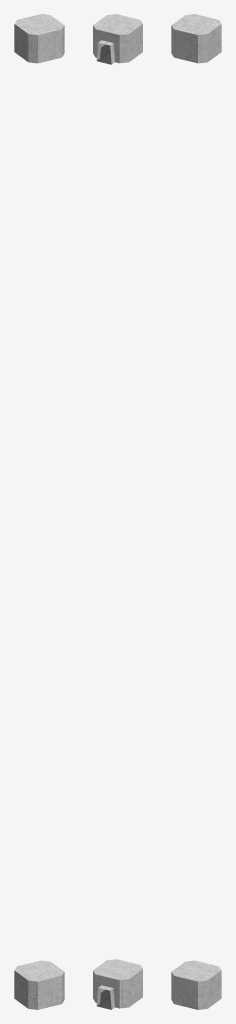
Rendered from thm_spc_star_destroyer_s01_r48_elevator03_mesh_r48.fbx.
3 views of the same model, side by side, from view 1: azimuth 30°, elevation 25°; view 2: azimuth 150°, elevation 25°; view 3: azimuth 330°, elevation 25° (orthographic).
Visible parts, largest first — view 1: mesh_node; view 2: mesh_node; view 3: mesh_node.
Boxes of the visible parts, x1,y1,x2,y2 form: mesh_node: (14, 14, 64, 1009); mesh_node: (93, 14, 142, 1009); mesh_node: (171, 14, 221, 1009).
Size of the model in its own units: 6 by 155 by 7.
Materials: 2 (2 with a texture image).
